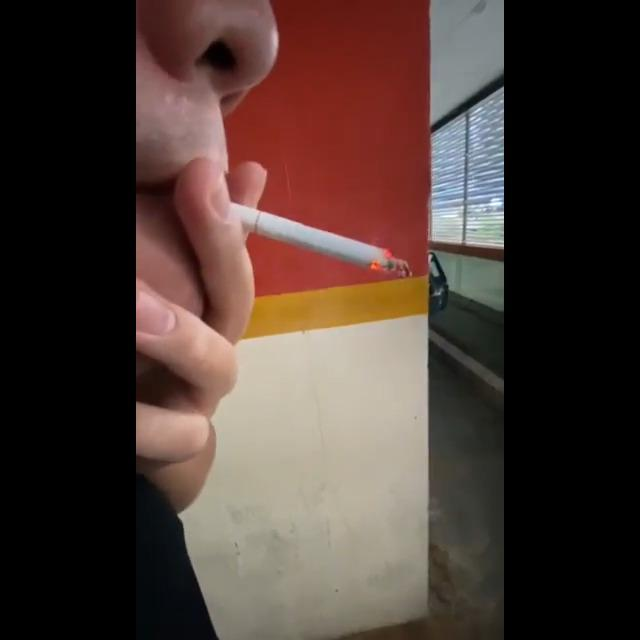rokok: (218, 198, 410, 278)
